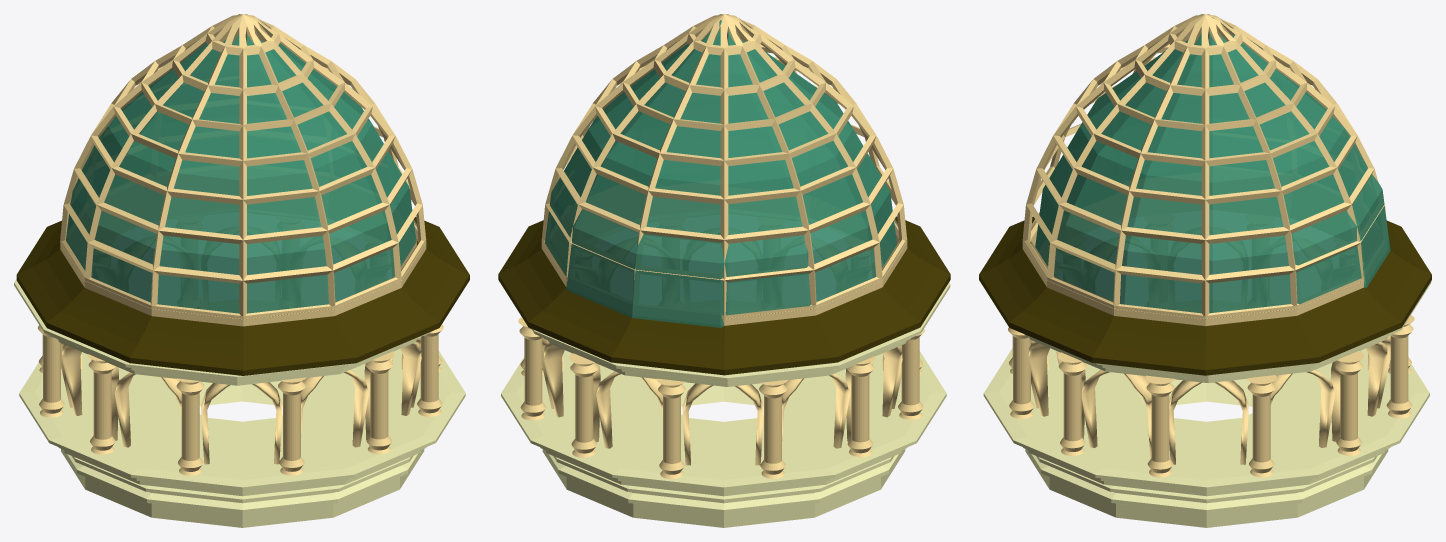
The model's file is dome.glb.
The picture shows the model from 3 angles, left to right: view 1: azimuth 30°, elevation 25°; view 2: azimuth 150°, elevation 25°; view 3: azimuth 270°, elevation 25°; orthographic projection.
Parts seen in each view (by area): view 1: dome, dome.002, dome_base, dome_pillars, Plane.001, dome_base.002; view 2: dome, dome.002, dome_base, dome_pillars, Plane.001, dome_base.002; view 3: dome, dome.002, dome_base, dome_pillars, Plane.001, dome_base.002.
Part boxes in pixels (x1,y1,x2,y2): dome: (16,14,469,375); dome.002: (66,33,416,313); dome_base: (19,349,465,527); dome_pillars: (38,324,443,475); Plane.001: (61,338,421,464); dome_base.002: (14,279,430,385); dome: (498,14,950,375); dome.002: (545,20,896,327); dome_base: (501,350,946,527); dome_pillars: (518,317,924,479); Plane.001: (542,337,902,465); dome_base.002: (531,282,950,386); dome: (979,14,1431,375); dome.002: (1035,17,1390,313); dome_base: (983,348,1429,527); dome_pillars: (1008,315,1414,477); Plane.001: (1028,335,1390,464); dome_base.002: (1024,281,1431,382).
Size of the model in its own units: 15.26 by 16.37 by 15.21.
4 materials, 1 textured.
